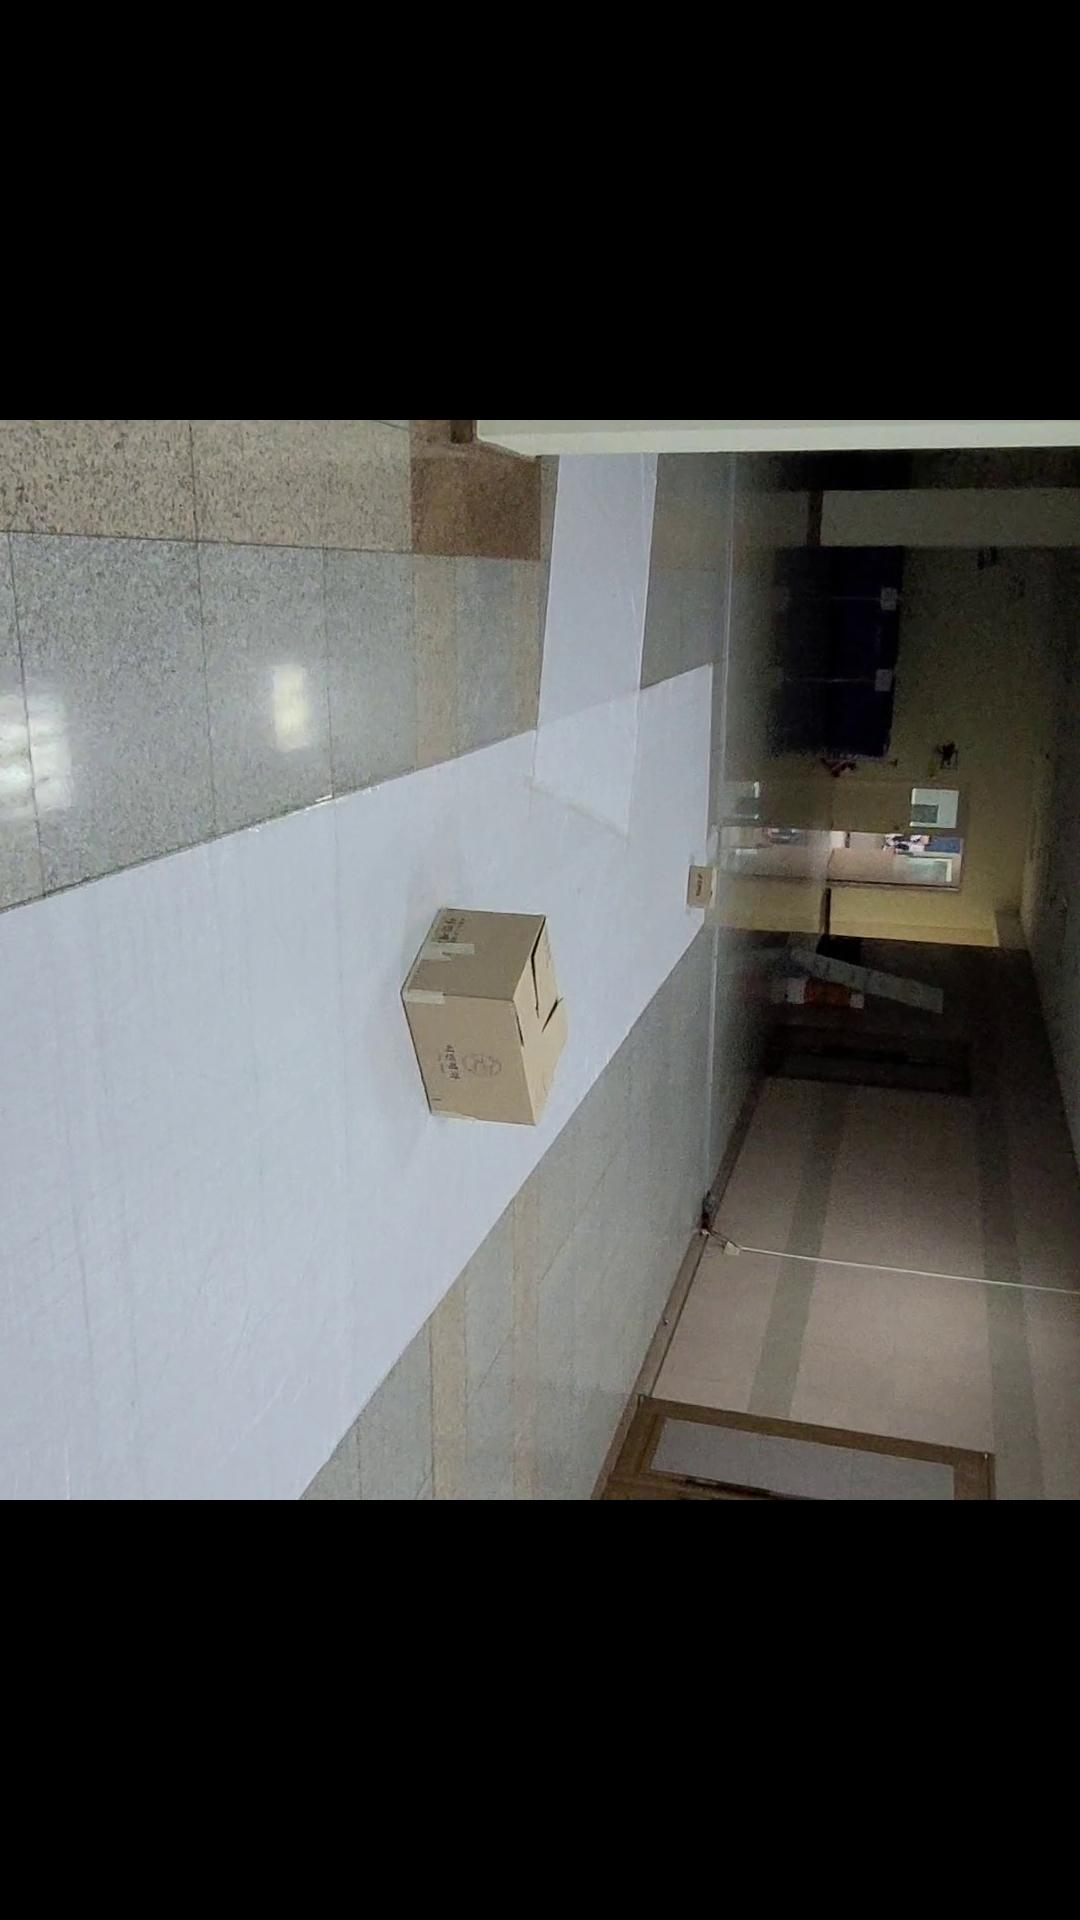Box: (388, 887, 575, 1145), (665, 833, 732, 930)
